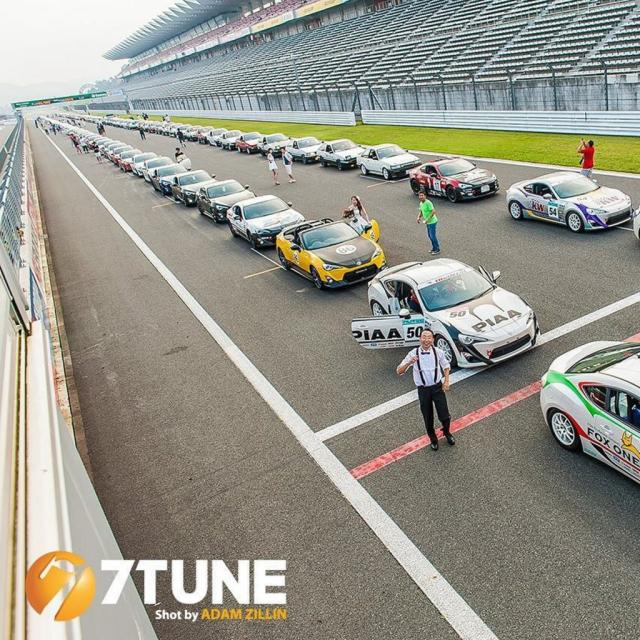car: (505, 170, 634, 233)
